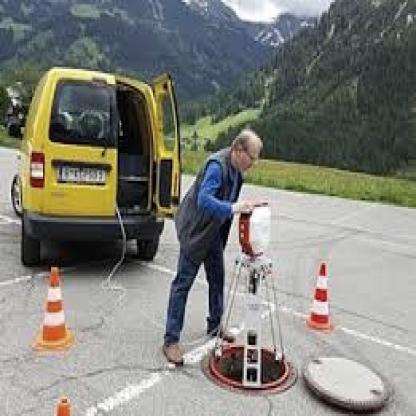manholes: (192, 299, 301, 416)
